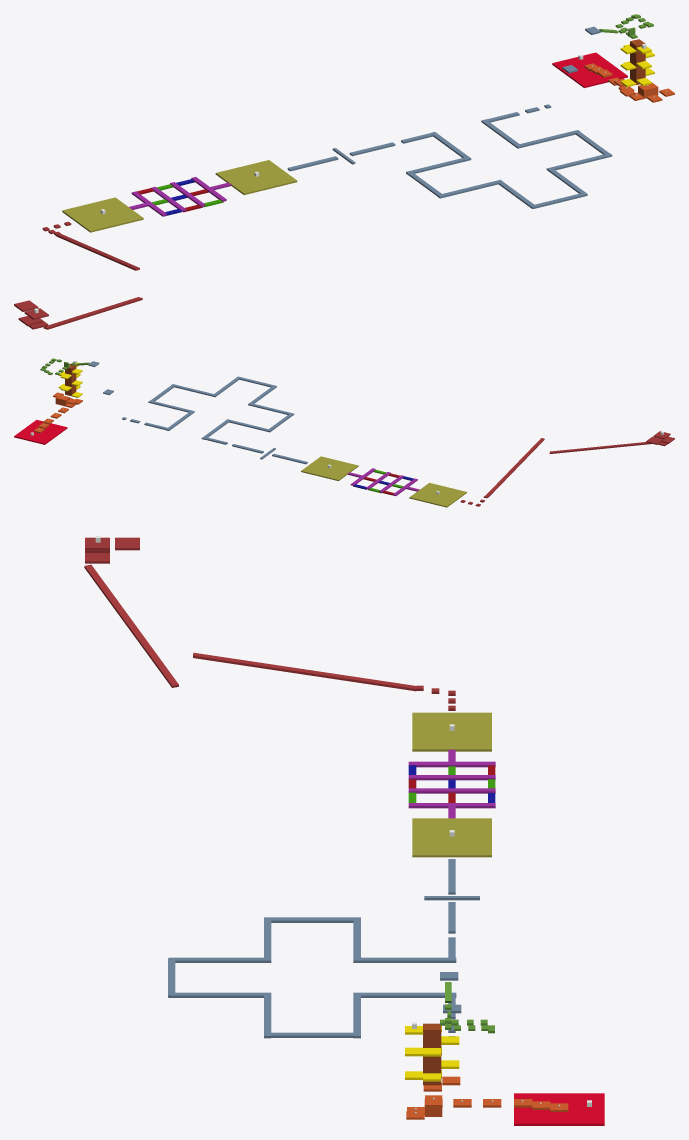
Rendered from parkour_map.glb.
The picture shows the model from 3 angles, top to bottom: view 1: azimuth 30°, elevation 25°; view 2: azimuth 150°, elevation 25°; view 3: azimuth 270°, elevation 25°; orthographic projection. The views are drawn at different scales.
Visible parts, largest first — view 1: Box.074, Box.057, Box.005, Box.013, Box.080; view 2: Box.074, Box.057, Box.005, Box.080, Box.081, Box.013; view 3: Box.057, Box.074, Box.005, Box.081, Box.080, Box.013.
Boxes of the visible parts, left/top/right/bottom form: Box.074: left=62, top=197, right=143, bottom=232; Box.057: left=215, top=160, right=297, bottom=194; Box.005: left=552, top=52, right=627, bottom=87; Box.013: left=630, top=39, right=645, bottom=84; Box.080: left=43, top=297, right=142, bottom=329; Box.074: left=409, top=483, right=466, bottom=507; Box.057: left=301, top=456, right=358, bottom=480; Box.005: left=14, top=419, right=67, bottom=444; Box.080: left=549, top=442, right=651, bottom=453; Box.081: left=486, top=438, right=544, bottom=496; Box.013: left=65, top=364, right=76, bottom=396; Box.057: left=412, top=818, right=491, bottom=857; Box.074: left=412, top=712, right=491, bottom=751; Box.005: left=514, top=1093, right=604, bottom=1125; Box.081: left=193, top=652, right=416, bottom=691; Box.080: left=84, top=564, right=178, bottom=687; Box.013: left=423, top=1023, right=441, bottom=1085.
Size of the model in its own units: 991 by 97.6 by 415.
